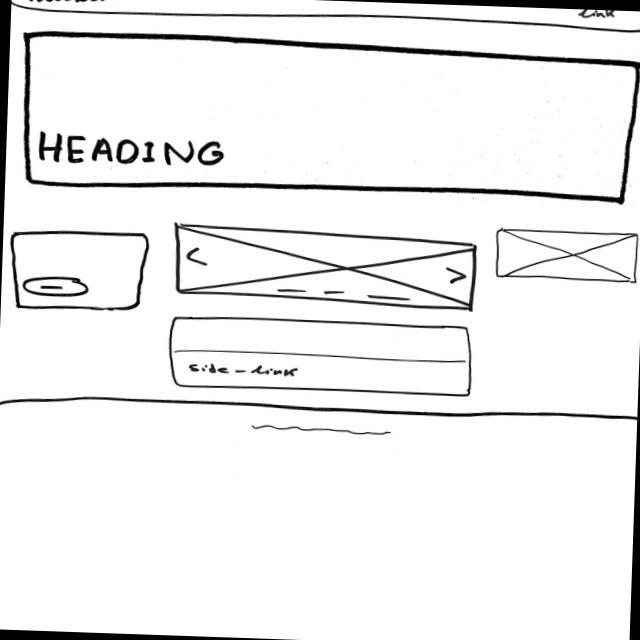container: (14, 28, 640, 205), (168, 315, 478, 400), (12, 1, 640, 33), (6, 227, 153, 316)
image: (171, 222, 481, 313), (495, 226, 640, 286)
label: (37, 129, 228, 170), (187, 361, 302, 379), (27, 1, 128, 7), (580, 10, 618, 20)
text: (249, 423, 393, 440), (24, 275, 93, 300)
